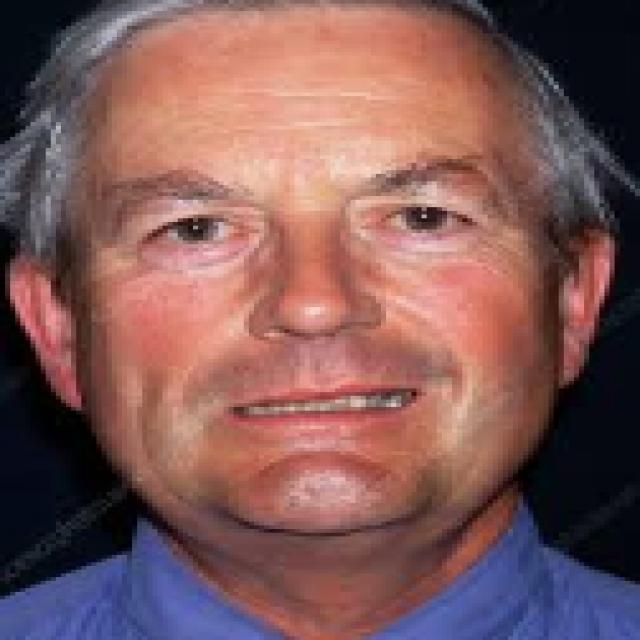normal_face: (64, 14, 640, 578)
